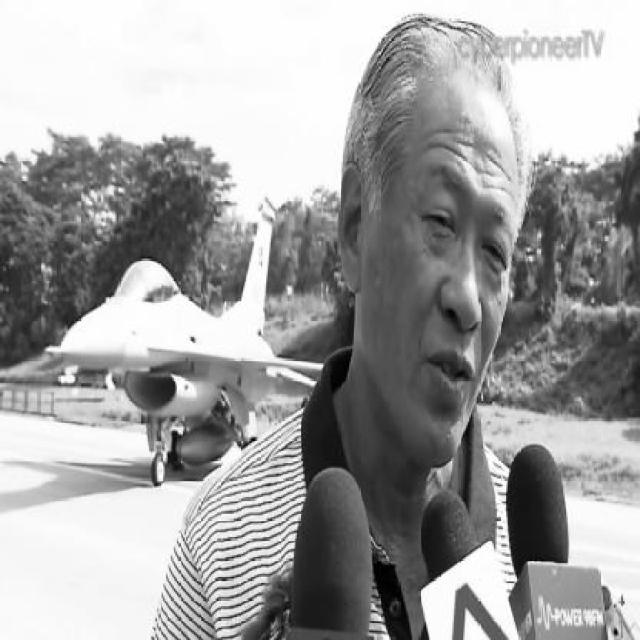Airplane: (46, 202, 325, 488)
